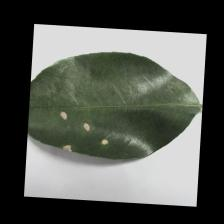canker: (42, 107, 126, 165)
